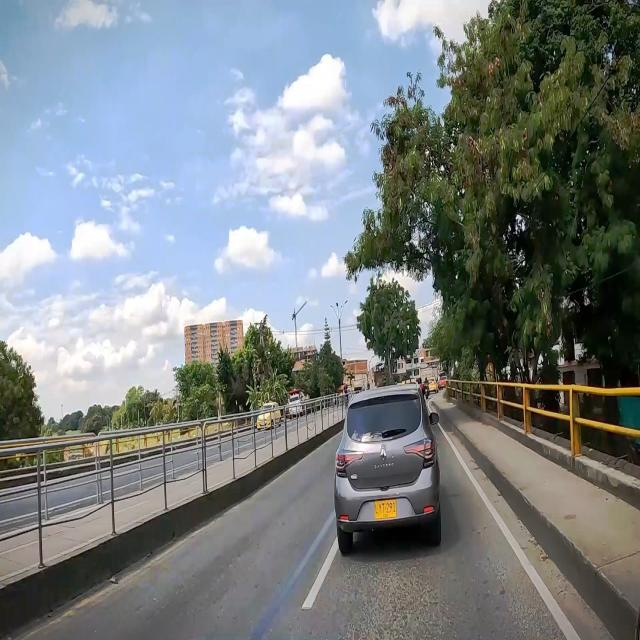license_plate: (373, 498, 397, 519)
